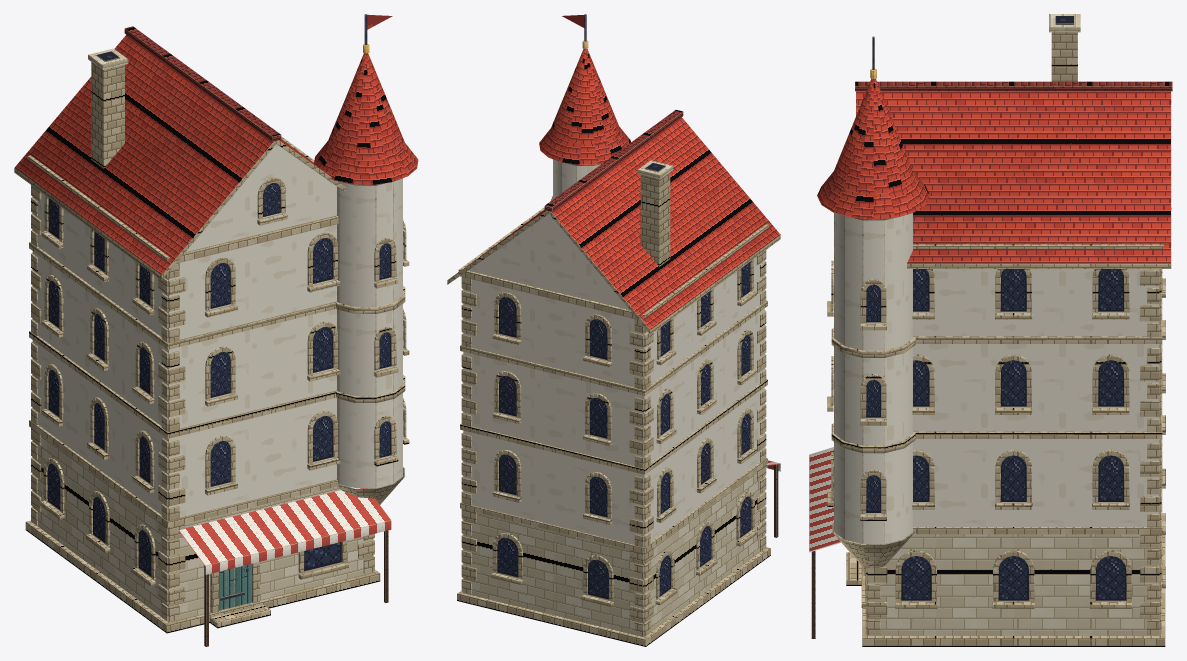
File: medieval_house_2.glb
3 renders of one model, left to right at view 1: azimuth 30°, elevation 25°; view 2: azimuth 150°, elevation 25°; view 3: azimuth 270°, elevation 25°, orthographic. The views are drawn at different scales.
Visible parts, largest first — view 1: medieval_house_3; view 2: medieval_house_3; view 3: medieval_house_3.
Part boxes in pixels (bbox=[...]): medieval_house_3: bbox=[14, 14, 418, 646]; medieval_house_3: bbox=[447, 14, 780, 646]; medieval_house_3: bbox=[809, 14, 1172, 646].
Size of the model in its own units: 8.2 by 17.15 by 9.33.
Materials: 14 (14 with a texture image).
